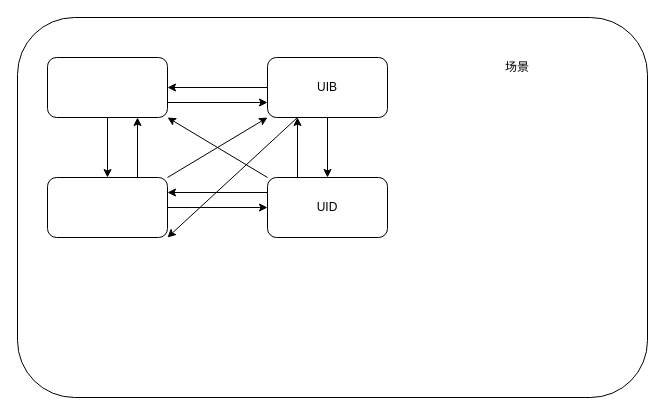
This 665x415 diagram has some shape labels left out. Each missing label, with the centre of its shape:
UIA: (x=107, y=87)
UIC: (x=107, y=207)
